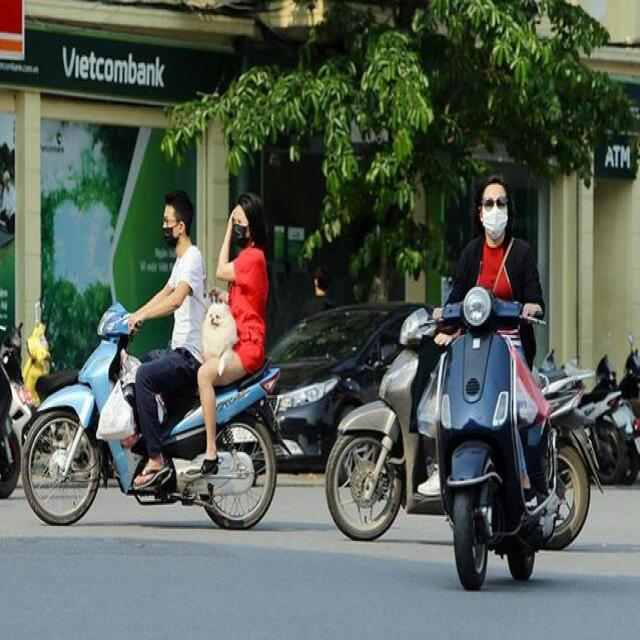no_helmet: (156, 176, 199, 265)
